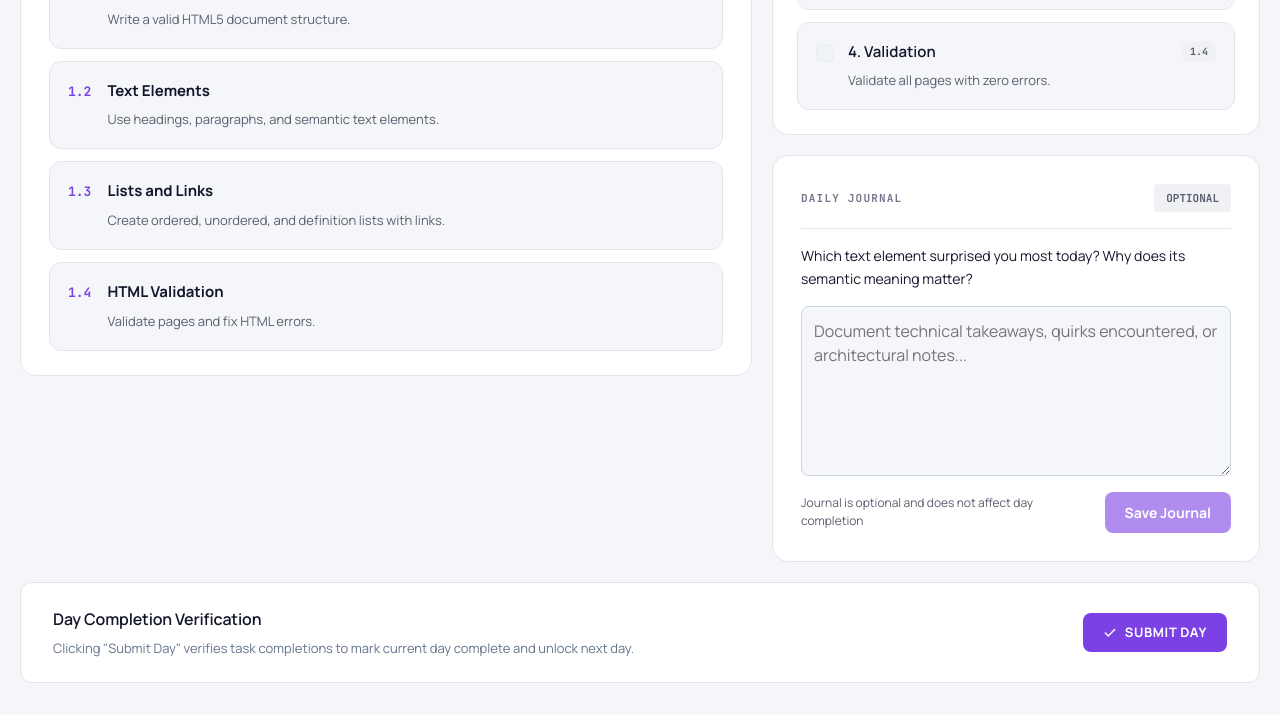
Test: DayOverviewPage: daily journal › keeps Save Journal disabled until the trainee types something
(page scrolled)
Expected: the button "Save Journal" is disabled, [1105,492,1231,533]
Replace the text in the text box with "Some notes": [1016, 391] box [801,306,1231,476]
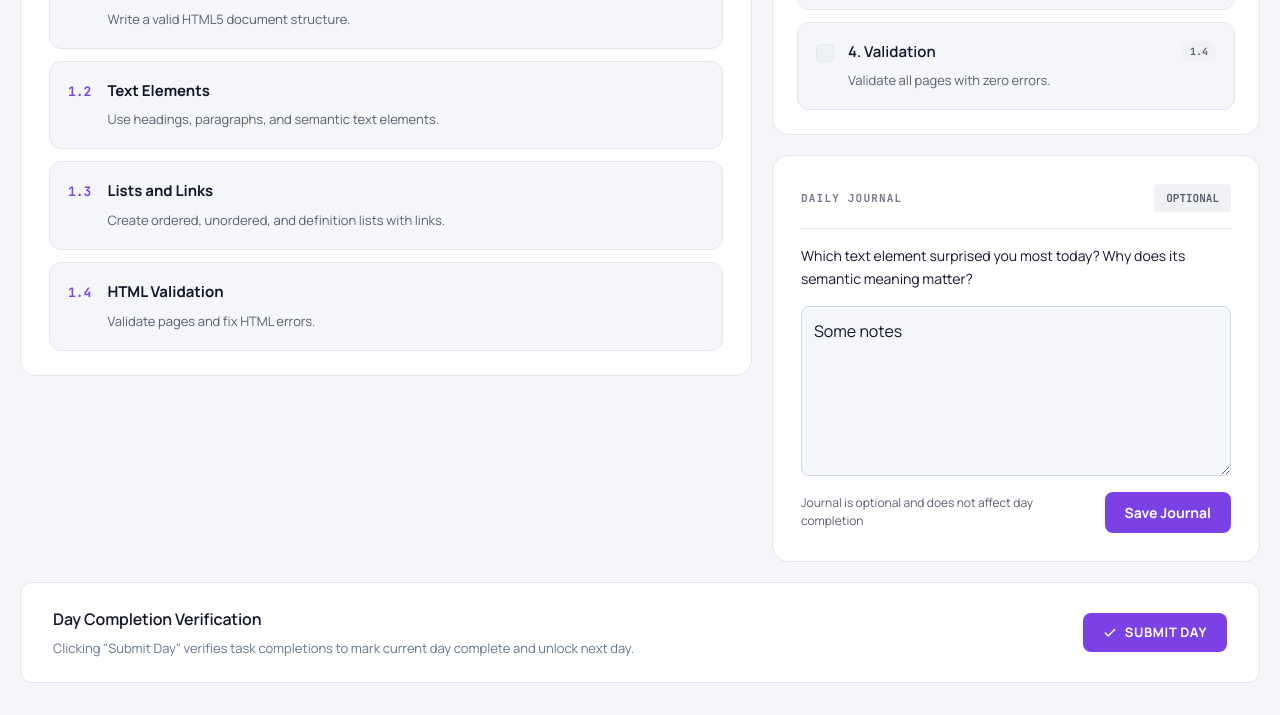
Expected: the button "Save Journal" is enabled, [1105,492,1231,533]
